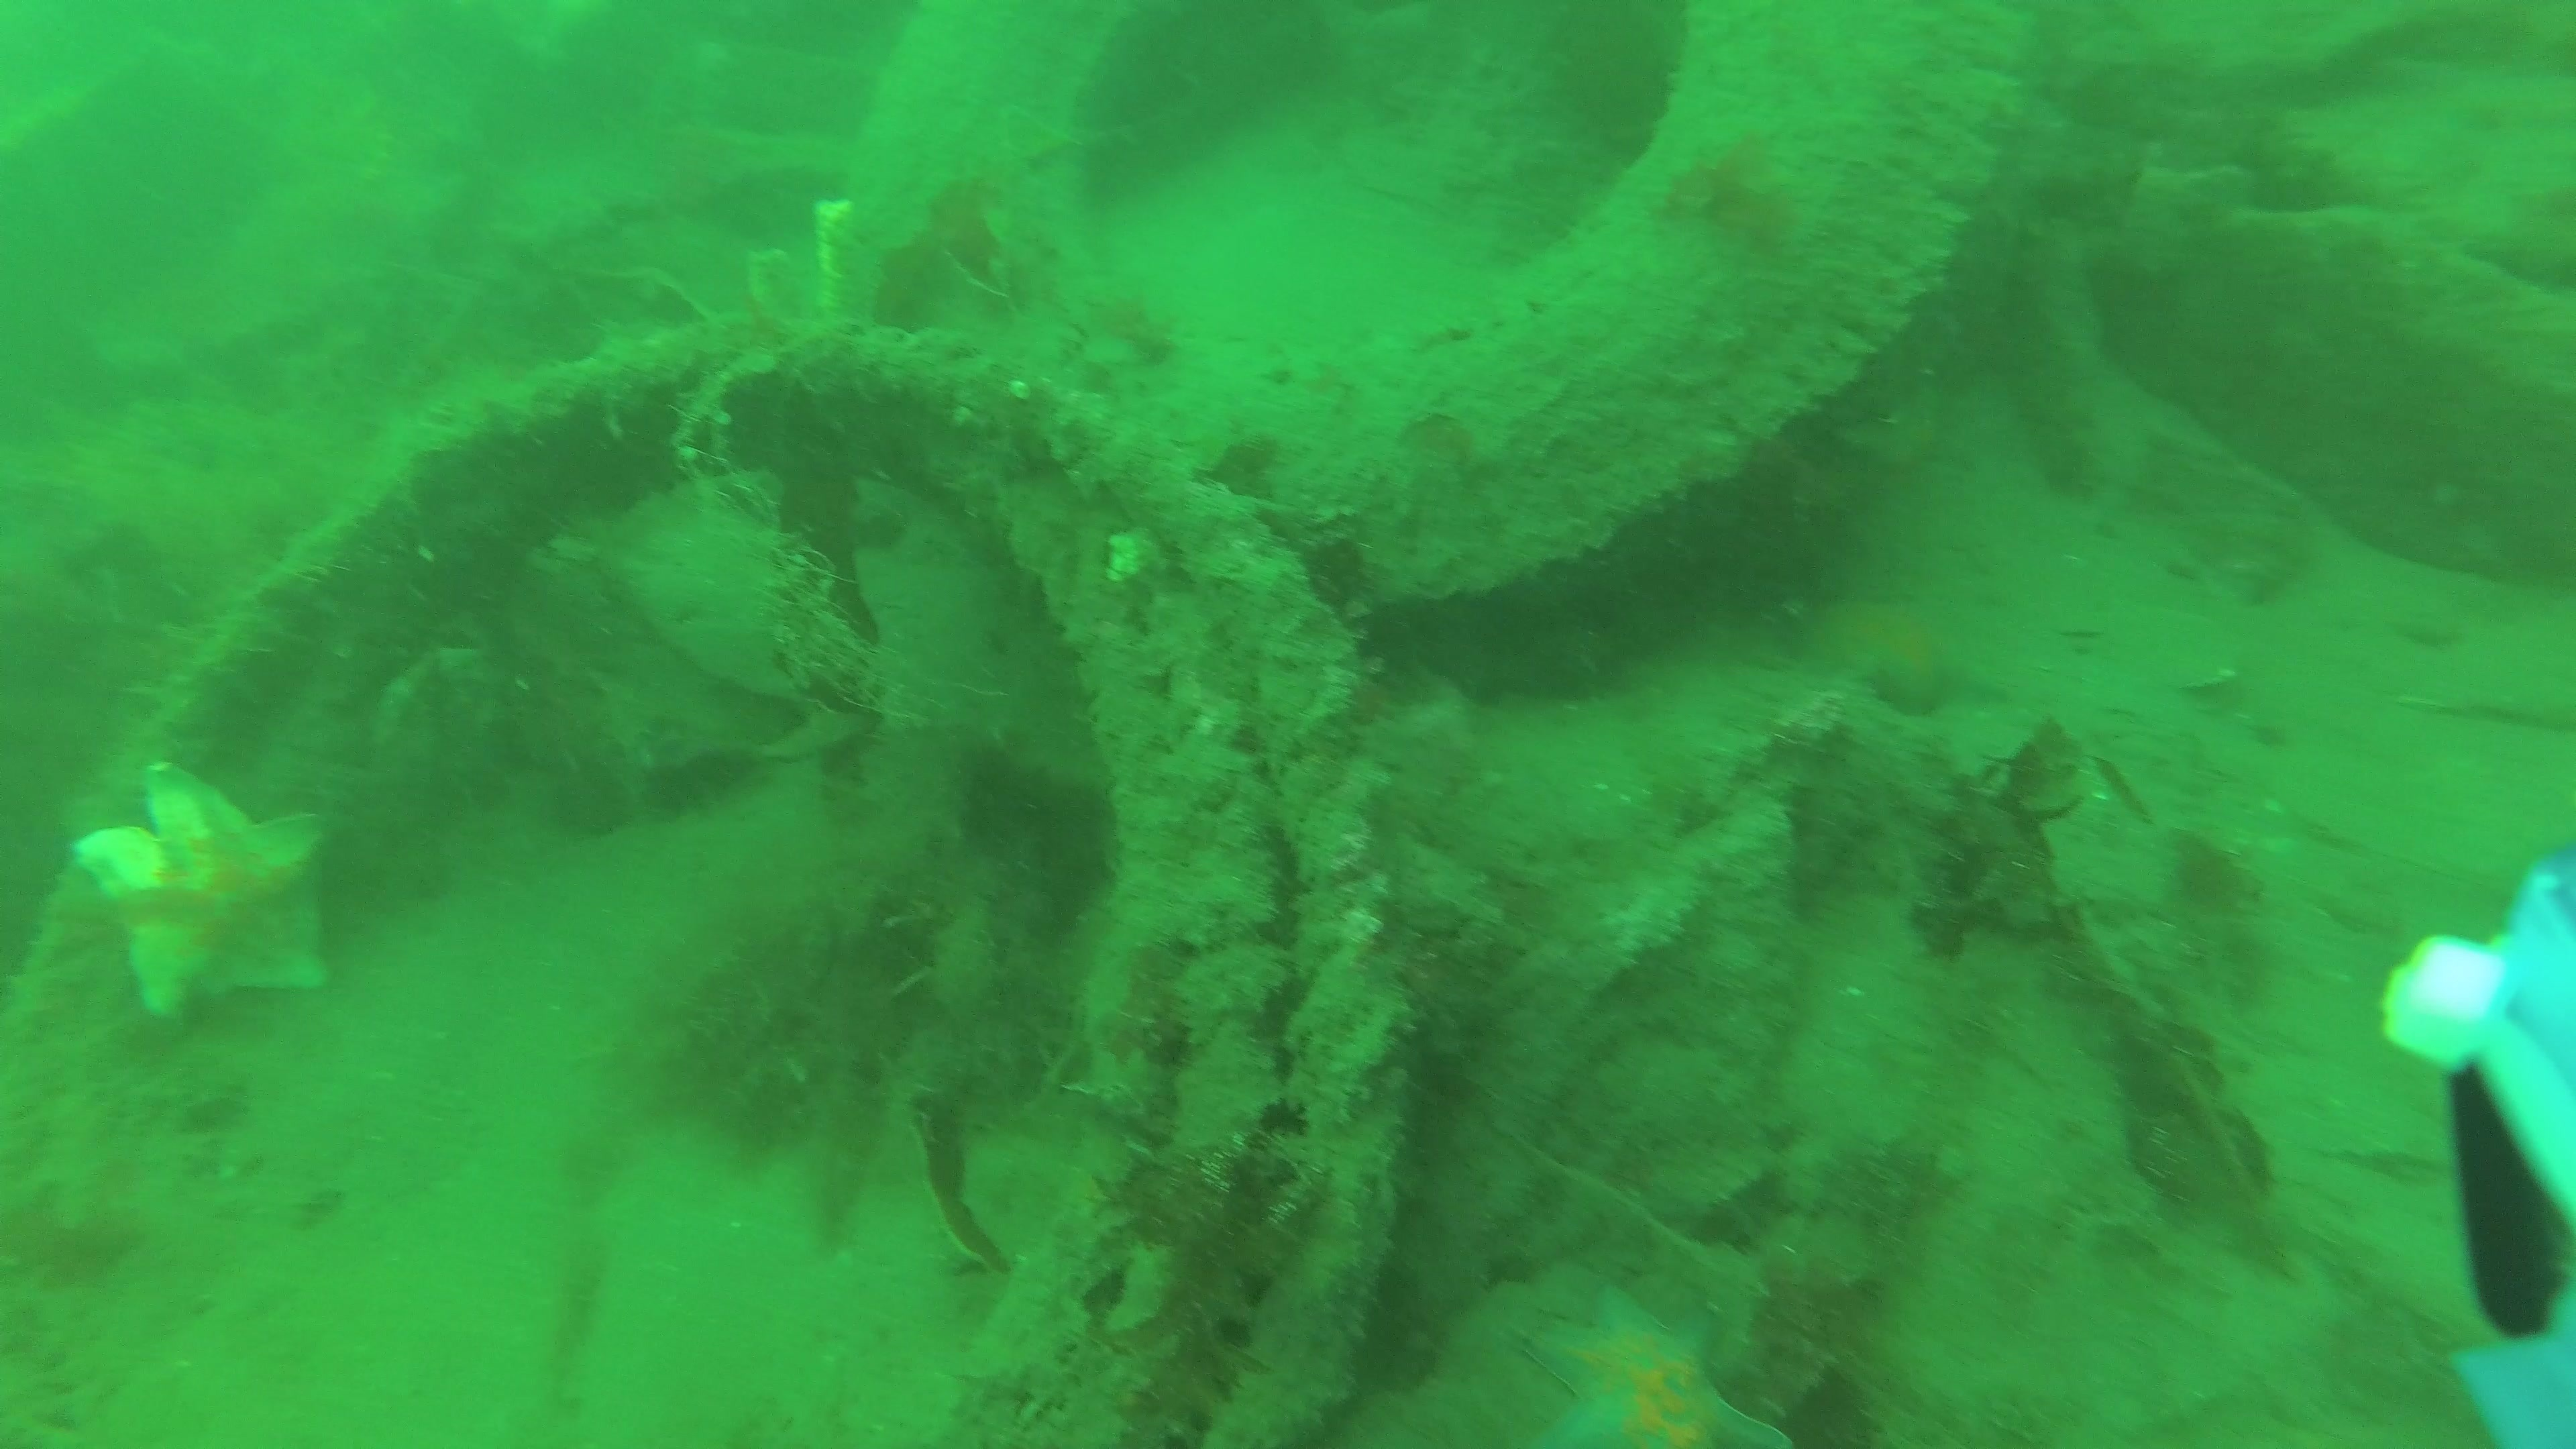starfish: (69, 770, 329, 1008), (1511, 1284, 1794, 1449), (1790, 598, 2012, 717)
